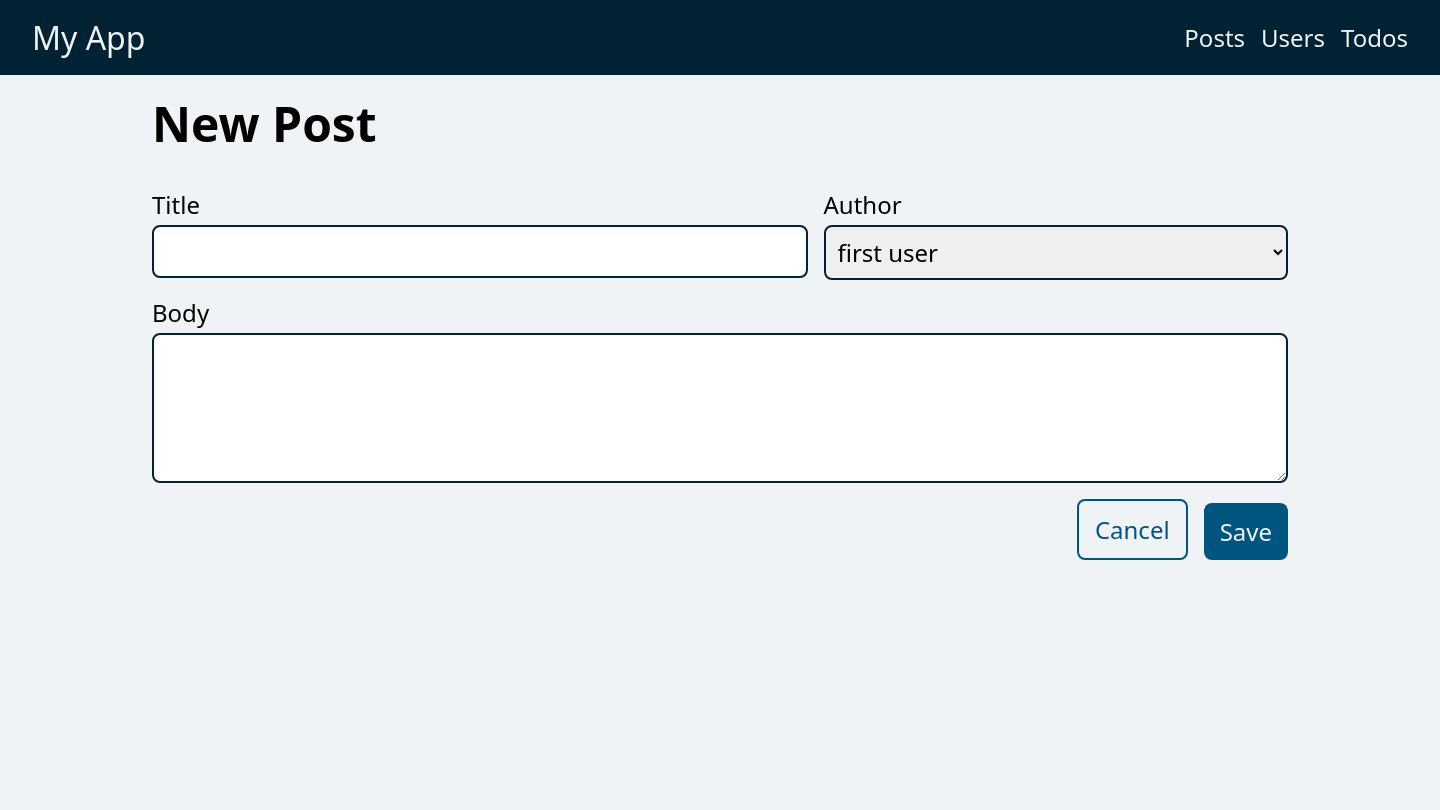
it: NewPost page › should create a new post valid input
Type "new post" into the field labelled "Title" at [480, 252], box x1=152 y1=225 x2=808 y2=278
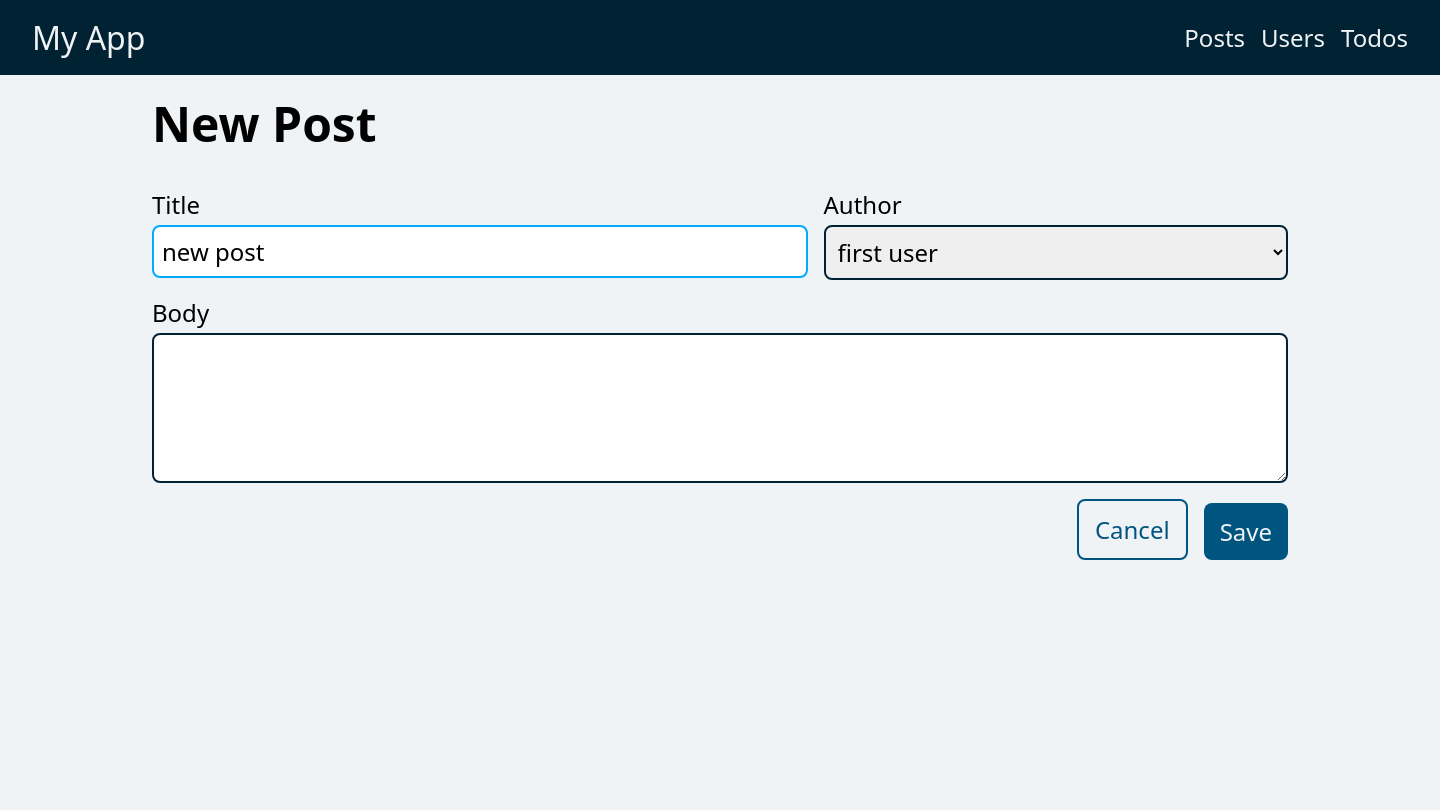
Select "first user" in the dropdown labelled "Author" at [1056, 252], box x1=824 y1=225 x2=1288 y2=280
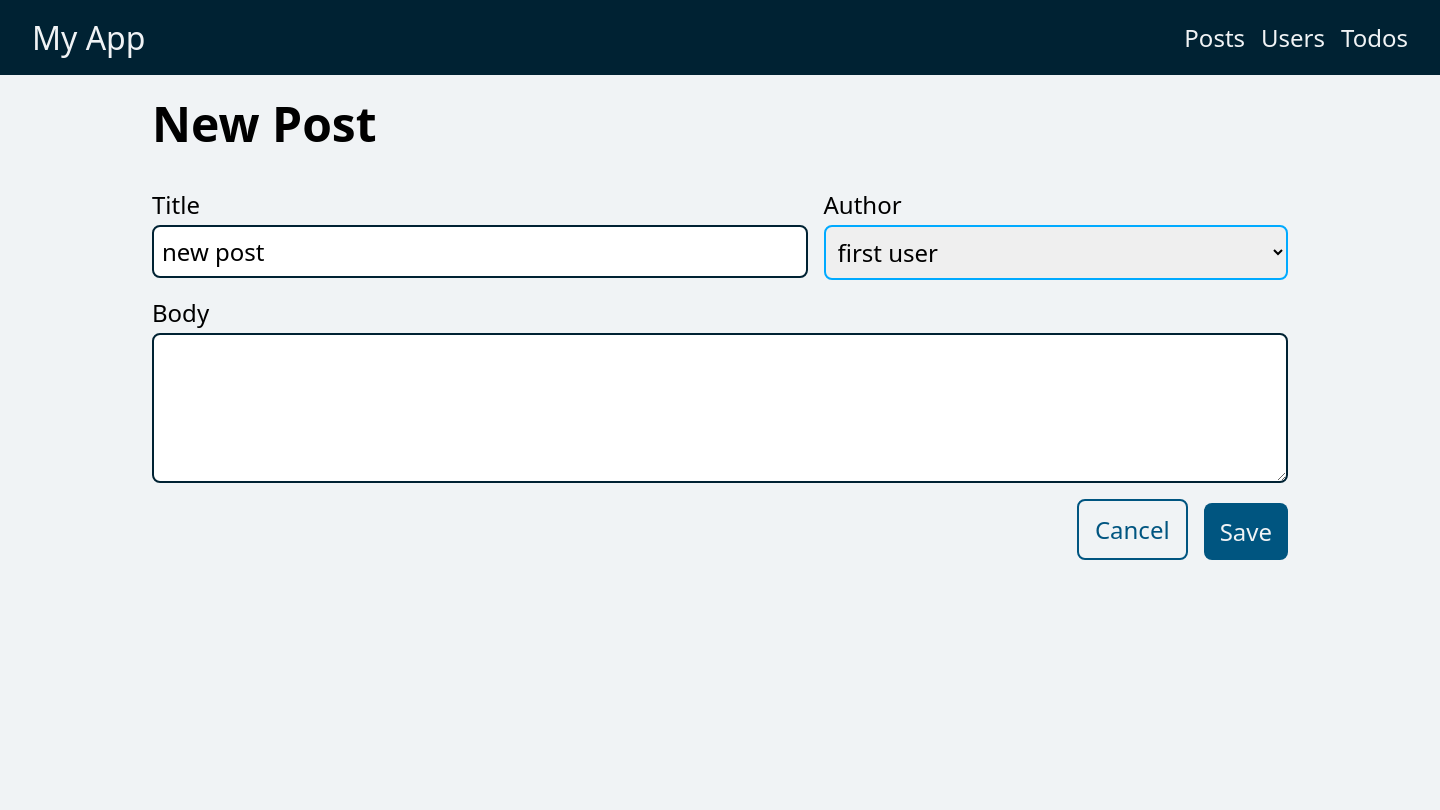
Type "new post body" into the text box labelled "Body" at [720, 408], box x1=152 y1=333 x2=1288 y2=483
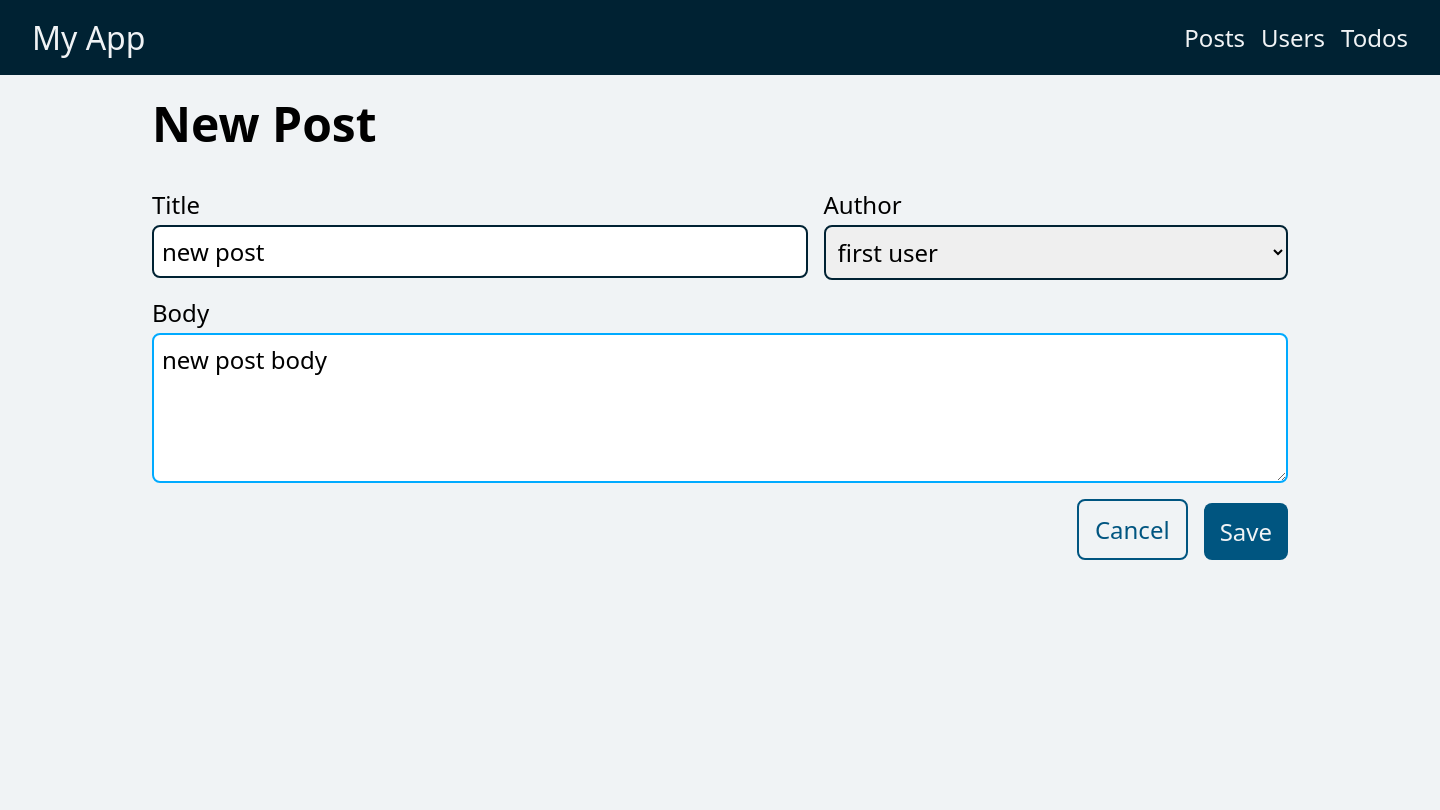
Click the button "Save" at [1246, 532], box x1=1204 y1=503 x2=1288 y2=560
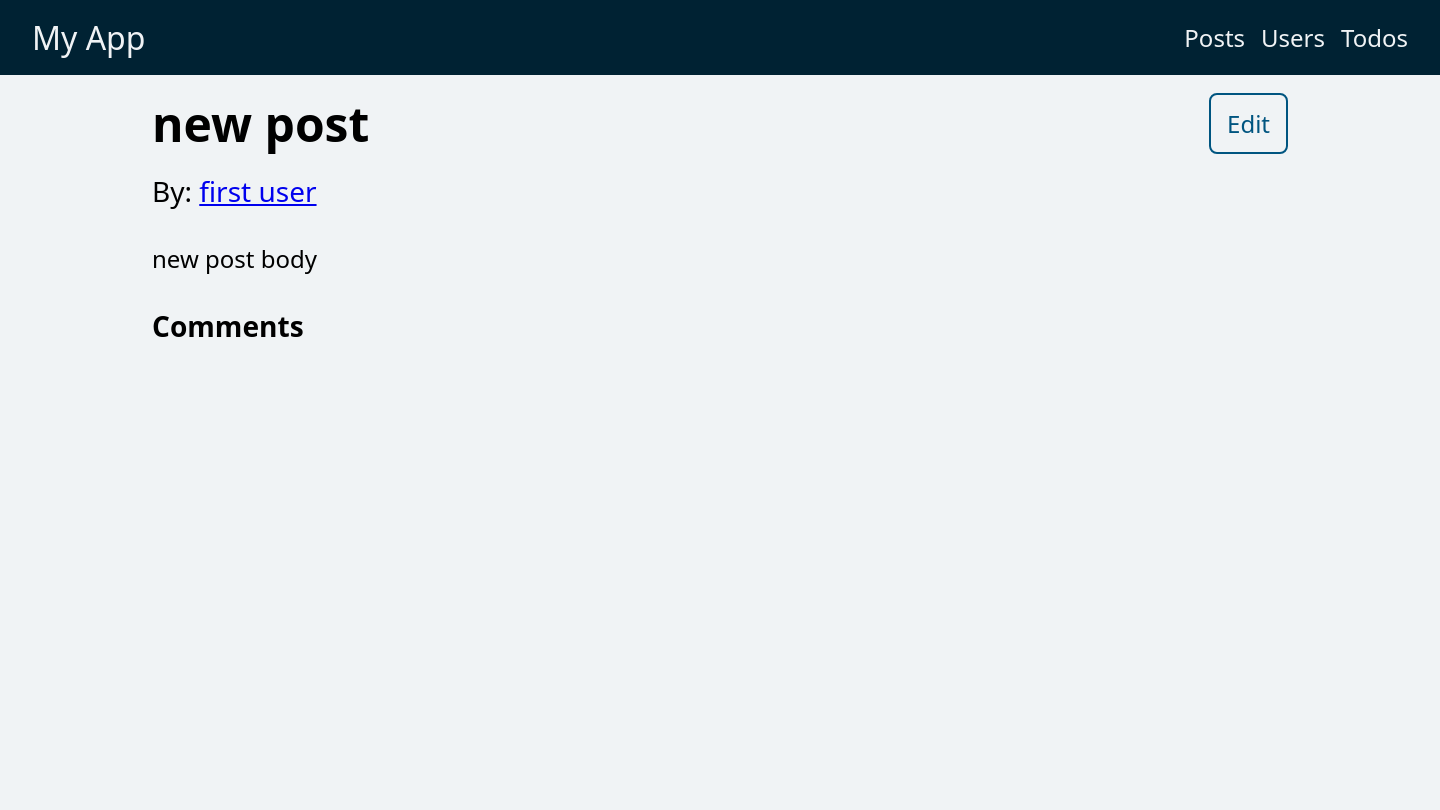
expect the heading "new post Edit" is shown: met, box x1=152 y1=91 x2=1288 y2=156
expect the link "first user" is shown: met, box x1=199 y1=172 x2=317 y2=210
expect the text "new post body" is shown: met, box x1=152 y1=242 x2=317 y2=275
